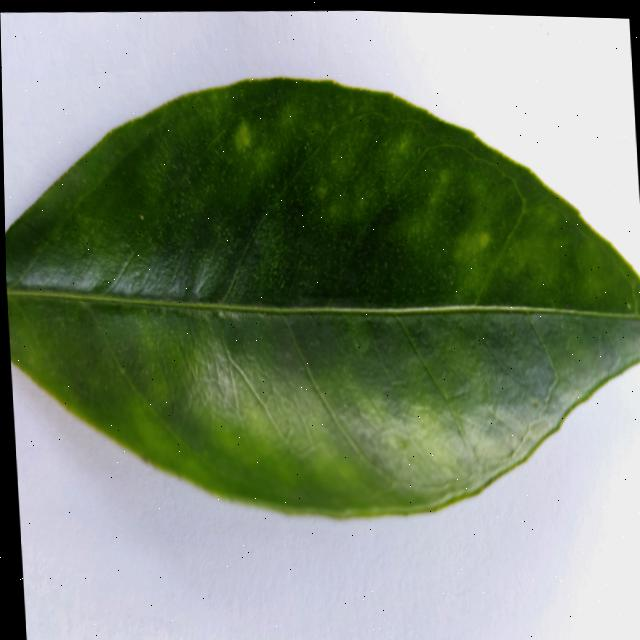greening: (5, 78, 640, 516)
